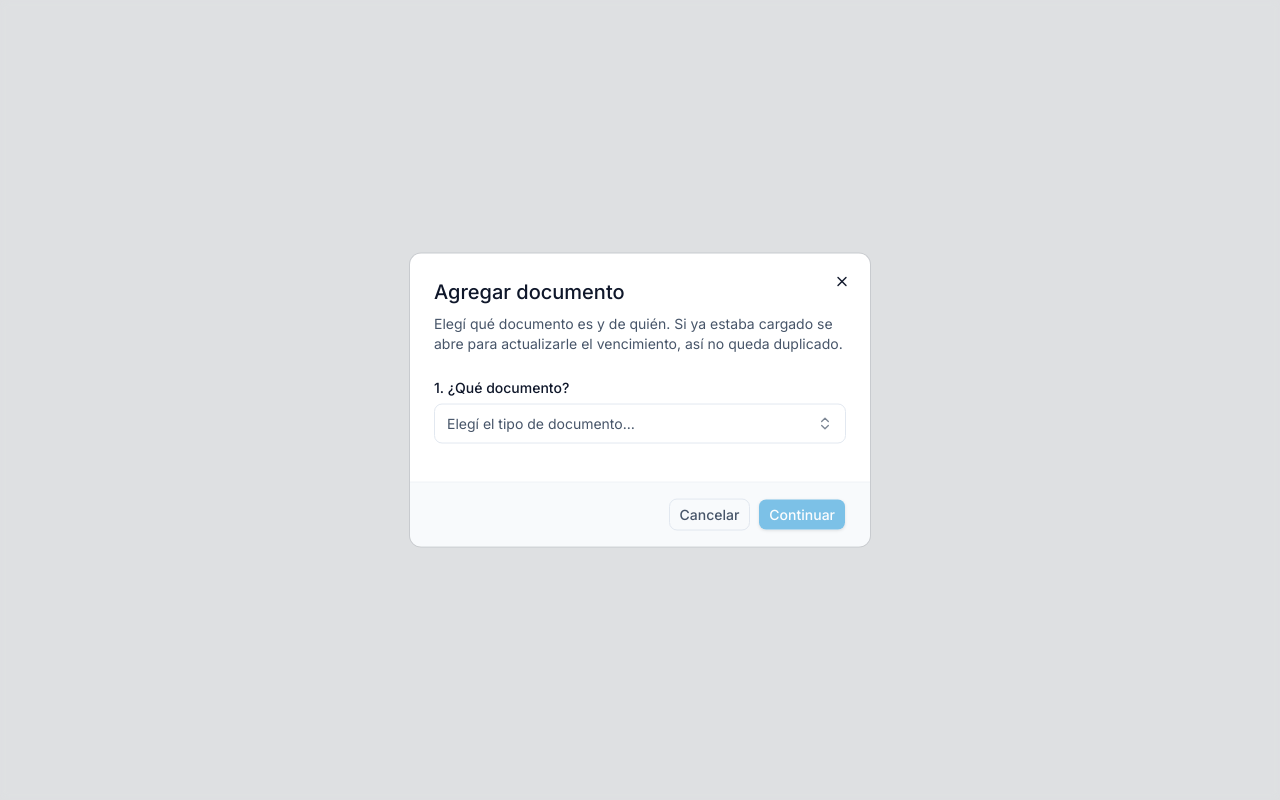
AgregarDocumentoDialog › al continuar abre la pantalla de carga, con la caja para subir el papel
Click the dropdown labelled "Elegí el tipo de documento… ▼" at (541, 423), box [434,404,846,444]
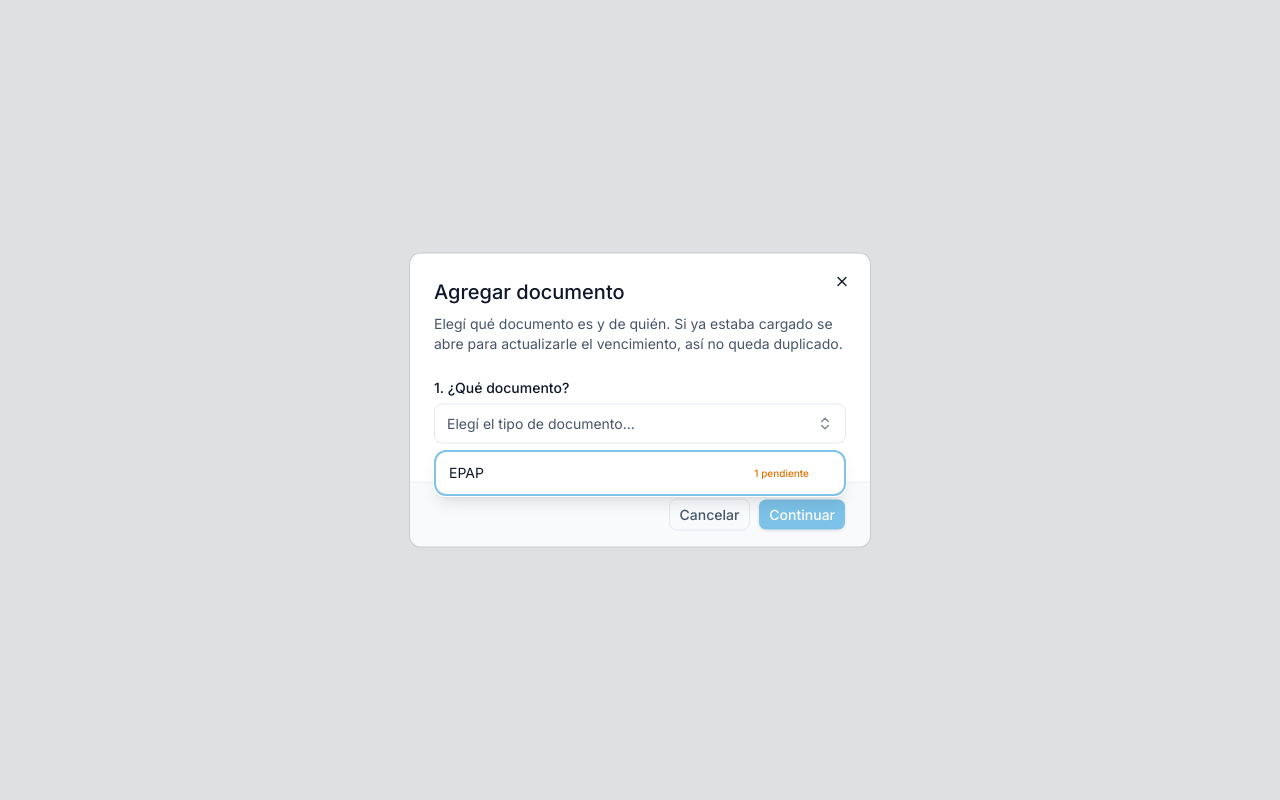
Click the option "EPAP 1 pendiente" at (466, 472), box [449,464,809,481]
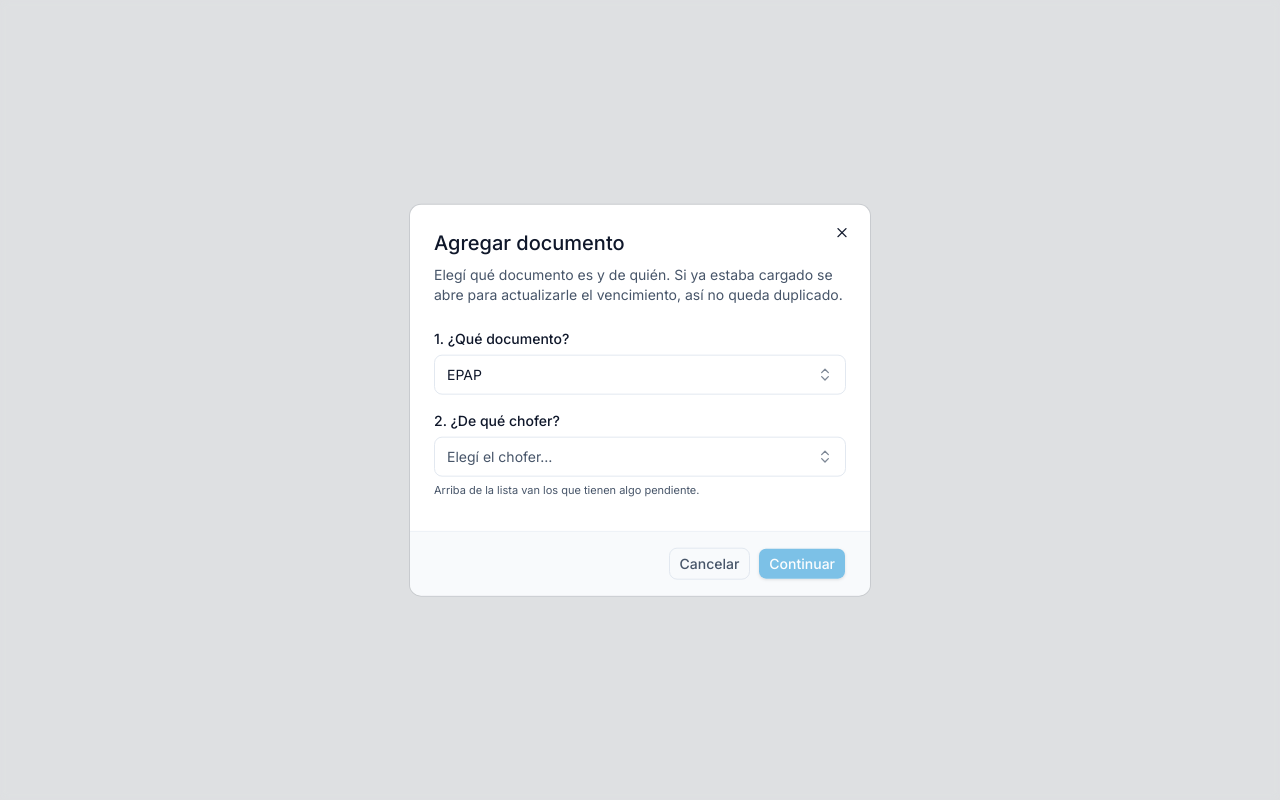
Click the dropdown labelled "Elegí el chofer… ▼" at (500, 456), box [434,437,846,477]
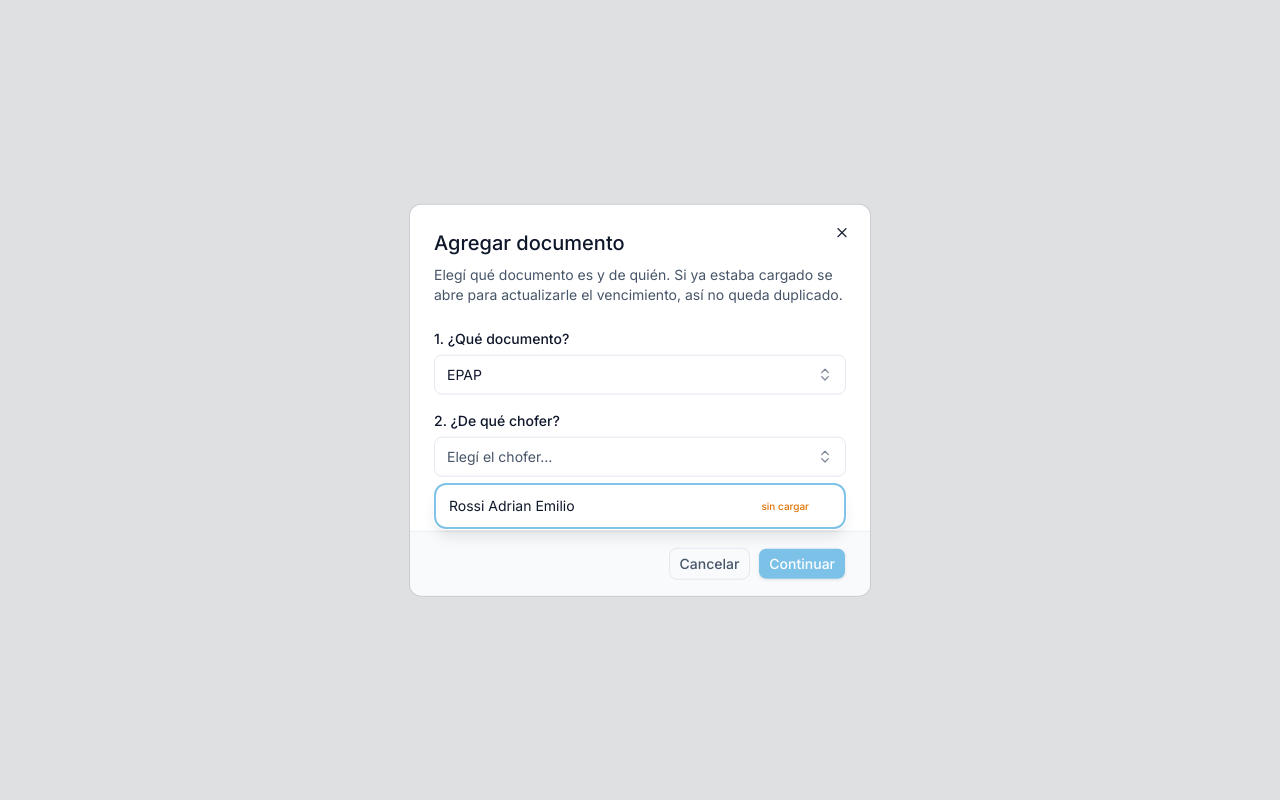
Click the option "Rossi Adrian Emilio sin cargar" at (512, 506), box [449,497,809,514]
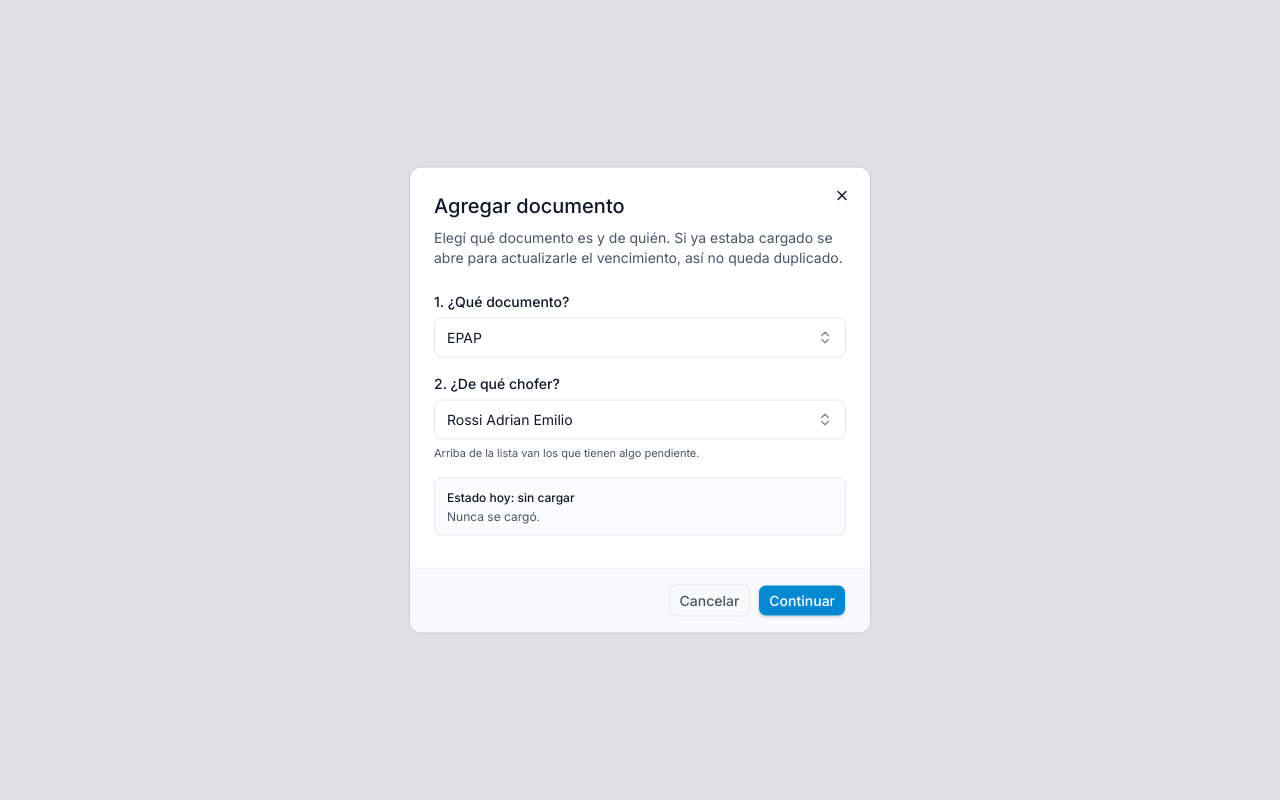
Click the button "Continuar" at (802, 600), box [758,584,846,616]
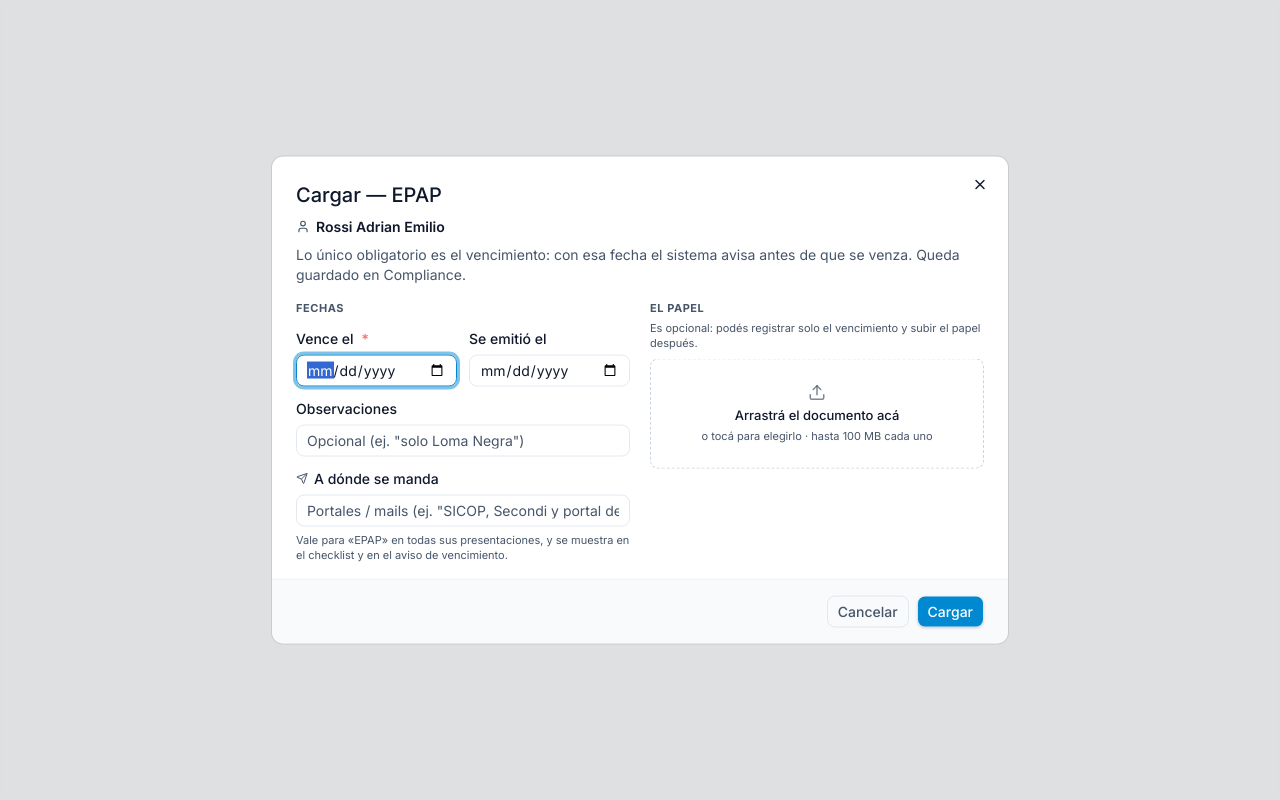
Check: the text "Rossi Adrian Emilio" is shown, box [296,218,445,234]
Check: the button "Cargar" is shown, box [917,596,984,628]
Check: the file field is shown, box [650,358,984,469]
